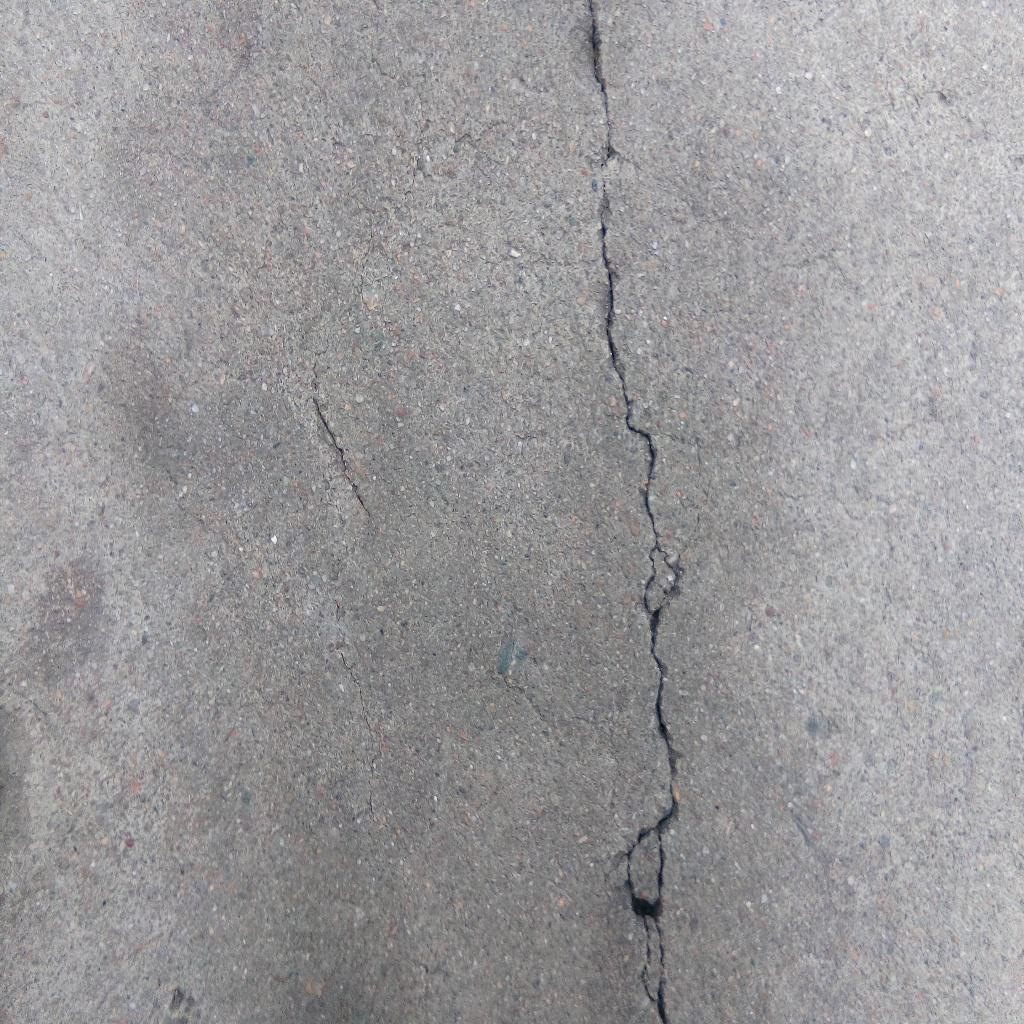Crack: (585, 1, 682, 1024)
